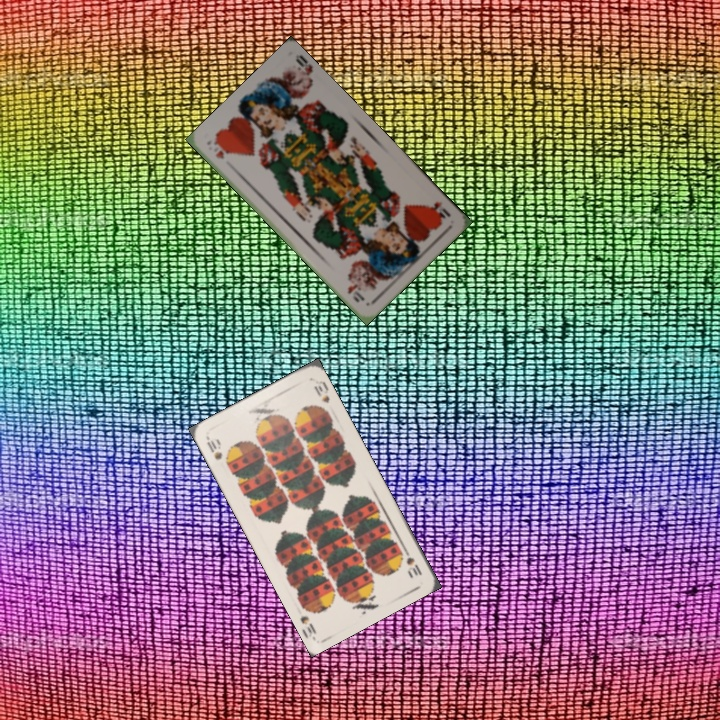HO: (423, 197, 453, 224), (209, 137, 230, 161)
S10: (399, 543, 425, 580), (203, 434, 225, 462)
